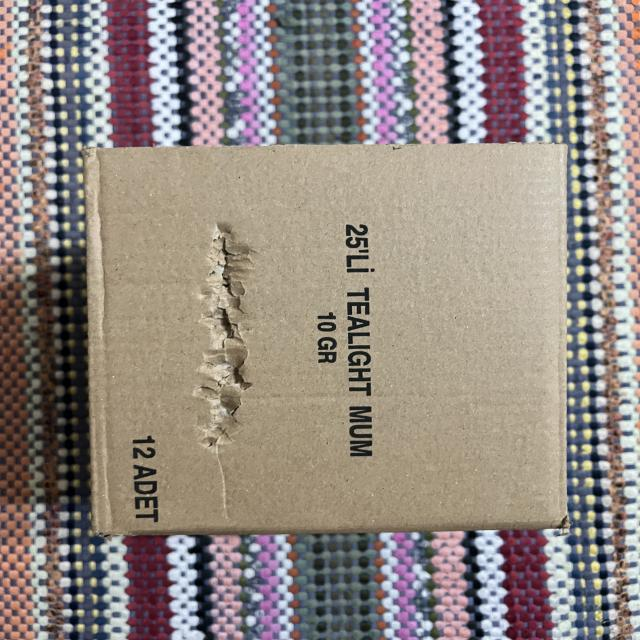damaged: (76, 135, 581, 538), (186, 216, 252, 509)
